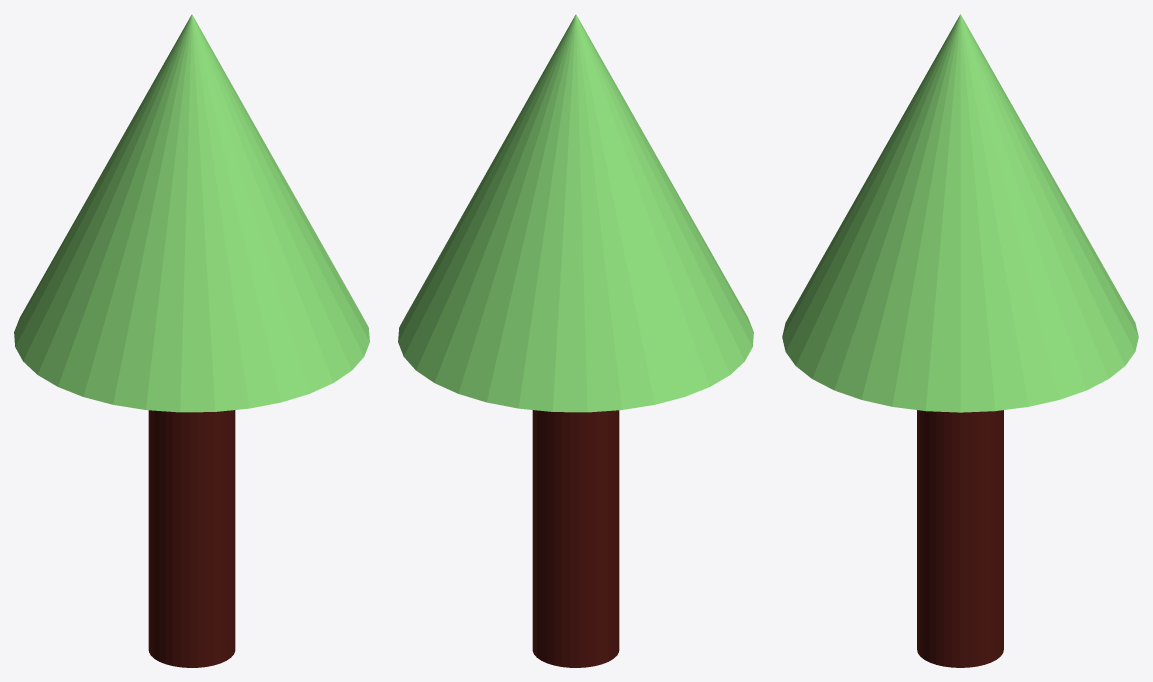
File: Tree.fbx
3 renders of one model, left to right at view 1: azimuth 30°, elevation 25°; view 2: azimuth 150°, elevation 25°; view 3: azimuth 270°, elevation 25°, orthographic.
Parts seen in each view (by area): view 1: Cylinder; view 2: Cylinder; view 3: Cylinder.
Boxes of the visible parts, bbox=[...] form: Cylinder: bbox=[14, 14, 369, 667]; Cylinder: bbox=[398, 14, 753, 667]; Cylinder: bbox=[782, 14, 1138, 667].
Size of the model in its own units: 821 by 1614 by 821.
